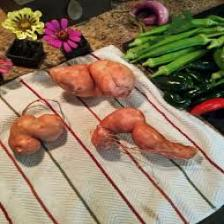Damaged potato: (89, 108, 197, 164), (47, 59, 138, 101), (0, 112, 75, 158)
